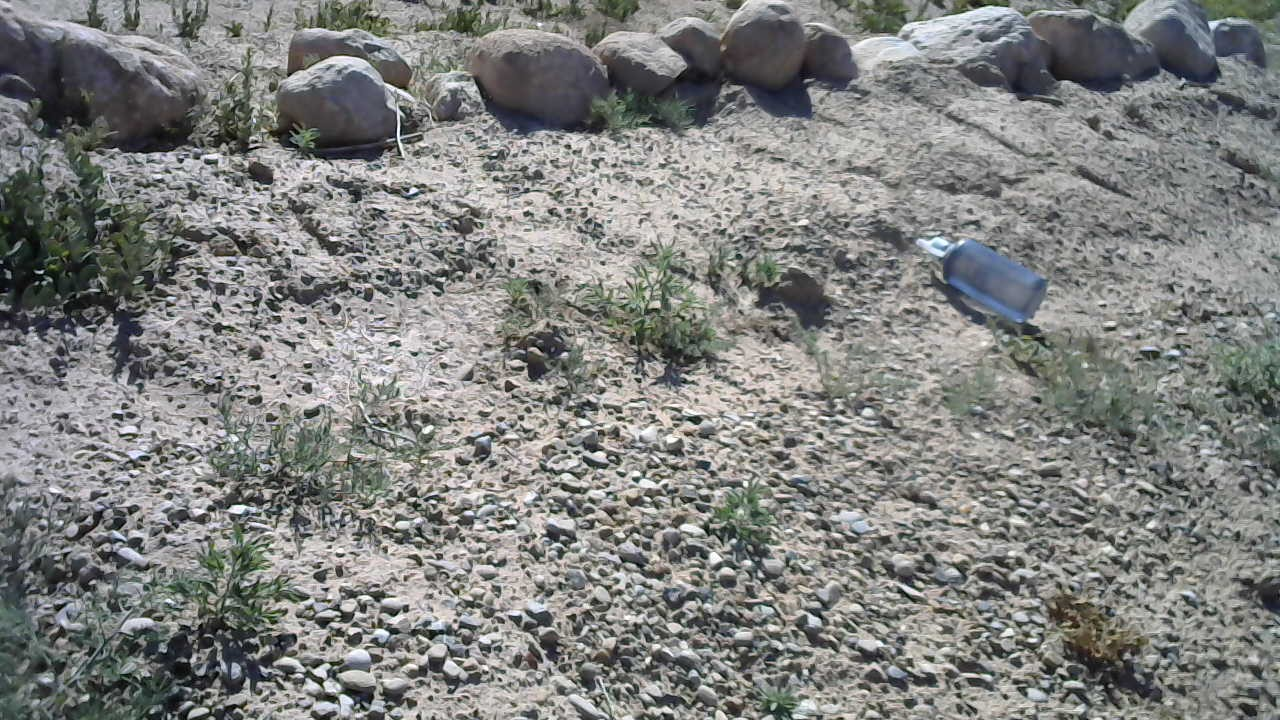bottle: (913, 226, 1049, 324)
